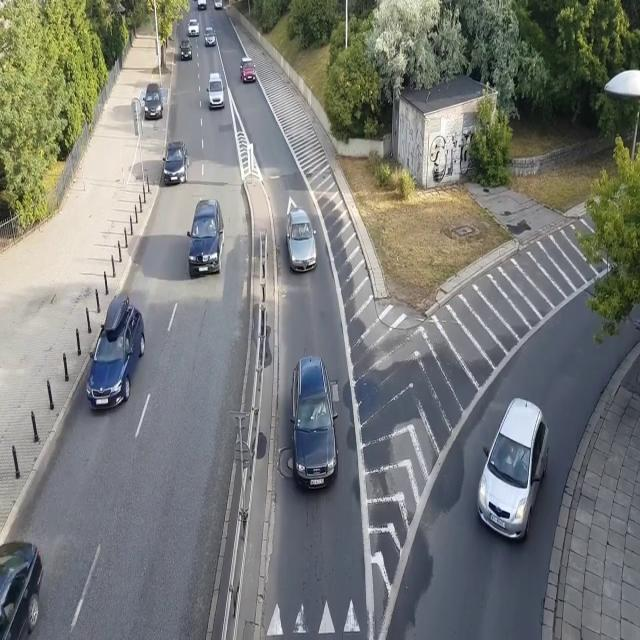car: (475, 396, 551, 544), (86, 294, 146, 410), (290, 356, 338, 491), (0, 539, 43, 640), (187, 200, 225, 278), (285, 208, 317, 272), (162, 142, 189, 185), (142, 83, 164, 119), (240, 57, 256, 83), (179, 37, 192, 60), (204, 26, 216, 47), (188, 19, 200, 37), (214, 0, 223, 10)
van: (206, 73, 225, 109), (197, 0, 207, 11)
